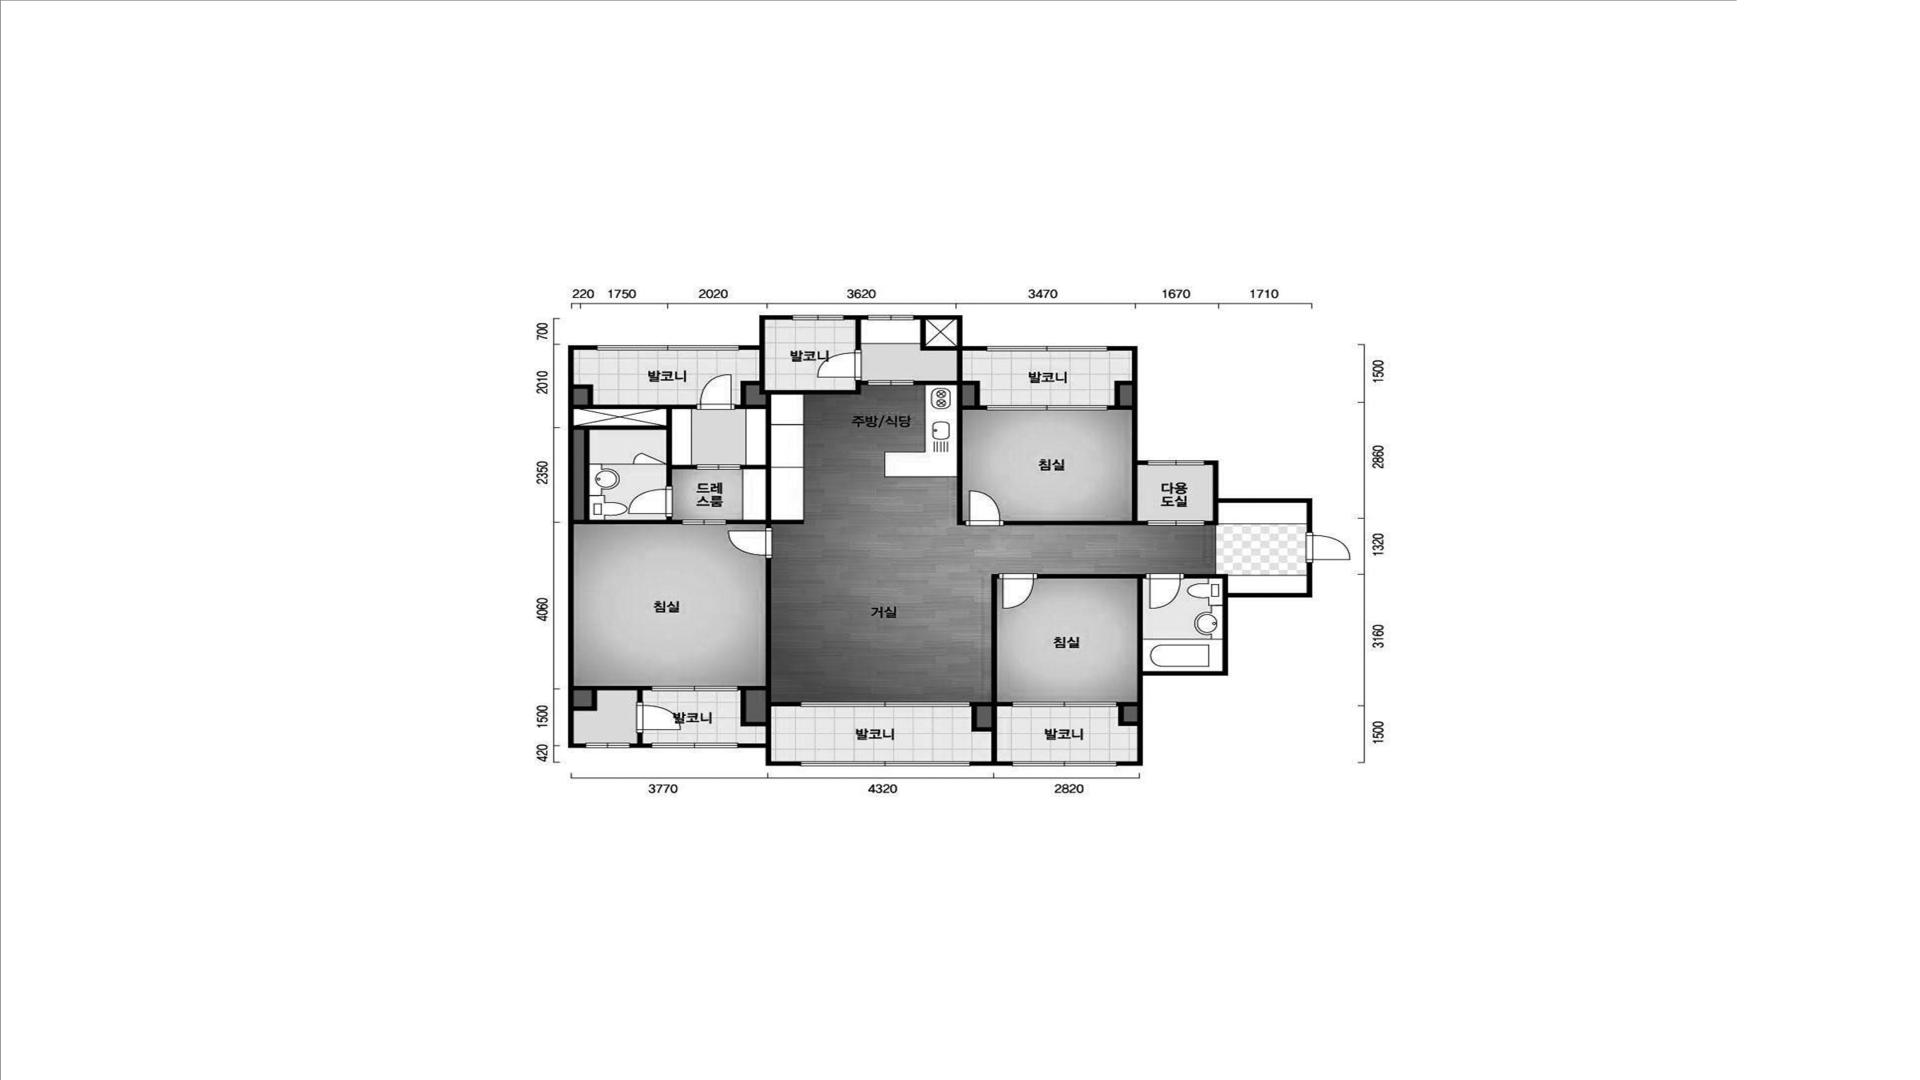background: (3, 1, 1920, 1080)
door: (636, 702, 682, 733), (1305, 531, 1350, 563), (965, 489, 1004, 526), (998, 574, 1038, 609), (628, 487, 674, 517), (1146, 574, 1184, 609), (696, 375, 735, 410), (728, 529, 773, 559), (818, 349, 862, 380)
wall: (1117, 563, 1312, 766), (568, 345, 596, 748), (1038, 574, 1146, 671), (574, 426, 667, 520), (1004, 465, 1147, 525), (1205, 460, 1312, 531), (738, 559, 771, 742), (971, 574, 998, 761), (1108, 345, 1147, 465), (574, 385, 696, 409), (914, 315, 986, 351), (574, 686, 651, 711), (740, 315, 793, 349), (760, 381, 868, 394), (738, 744, 799, 766), (736, 381, 771, 409), (957, 410, 965, 525), (956, 381, 986, 410), (1185, 574, 1228, 593), (1108, 381, 1131, 410), (766, 409, 771, 527), (574, 520, 682, 525), (666, 409, 673, 487), (1118, 702, 1137, 727), (1205, 502, 1218, 525), (971, 761, 1011, 766), (727, 520, 766, 525), (760, 351, 765, 390), (956, 351, 963, 380), (771, 520, 804, 525), (915, 381, 956, 385), (920, 320, 926, 351), (856, 320, 861, 349), (771, 702, 799, 707), (926, 347, 956, 351), (741, 465, 765, 469), (673, 465, 696, 469), (844, 315, 868, 319), (630, 744, 651, 748), (998, 702, 1013, 707), (637, 733, 642, 744), (637, 691, 642, 702), (666, 517, 673, 520)
window: (596, 344, 740, 351), (799, 761, 971, 766), (800, 702, 971, 707), (986, 345, 1108, 352), (986, 405, 1108, 411), (651, 742, 738, 749), (653, 686, 738, 692), (1013, 702, 1118, 707), (1011, 761, 1117, 766), (1147, 520, 1205, 526), (1147, 460, 1205, 465), (868, 380, 914, 386), (585, 742, 630, 749), (696, 464, 741, 471), (793, 315, 844, 320), (868, 315, 914, 320), (682, 520, 727, 525)
